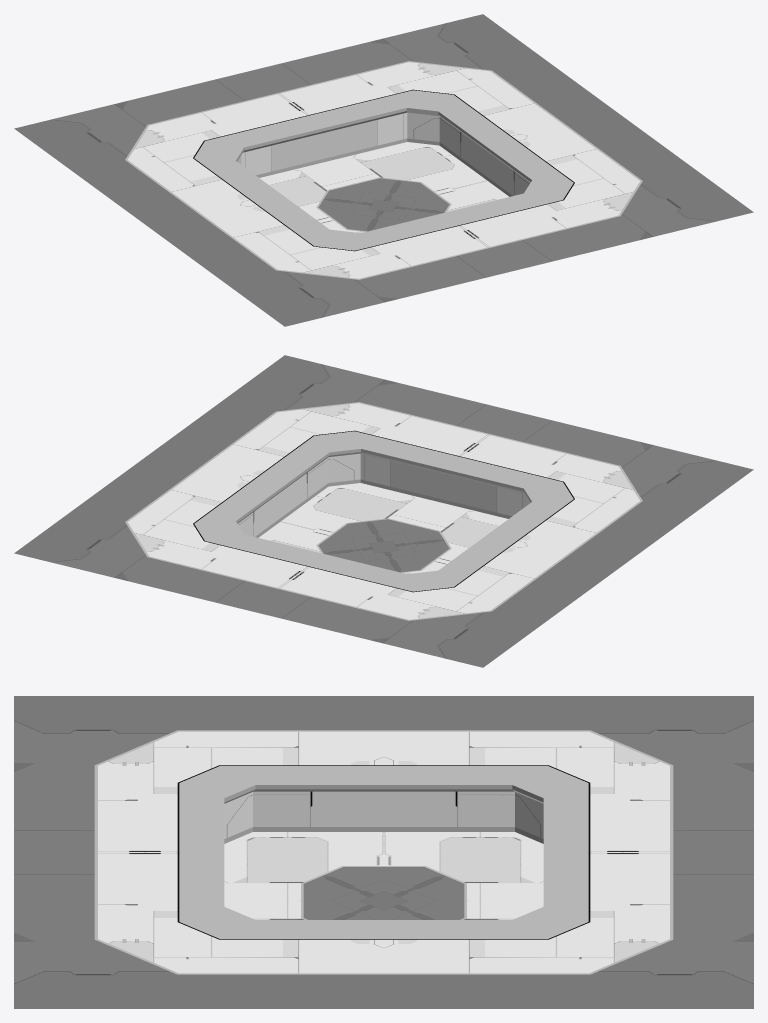
Rendered from SM_Floor_Interior_18x18_Lower_1.fbx.
3 renders of one model, top to bottom at view 1: azimuth 30°, elevation 25°; view 2: azimuth 150°, elevation 25°; view 3: azimuth 270°, elevation 25°, orthographic. The views are drawn at different scales.
Visible parts, largest first — view 1: SM_Floor_Interior_18x18_Lower_1; view 2: SM_Floor_Interior_18x18_Lower_1; view 3: SM_Floor_Interior_18x18_Lower_1.
Boxes of the visible parts, bbox=[...] form: SM_Floor_Interior_18x18_Lower_1: bbox=[14, 14, 753, 326]; SM_Floor_Interior_18x18_Lower_1: bbox=[14, 355, 753, 667]; SM_Floor_Interior_18x18_Lower_1: bbox=[14, 696, 753, 1008].
Bounding box in the file's own units: 1800 × 130 × 1800.
